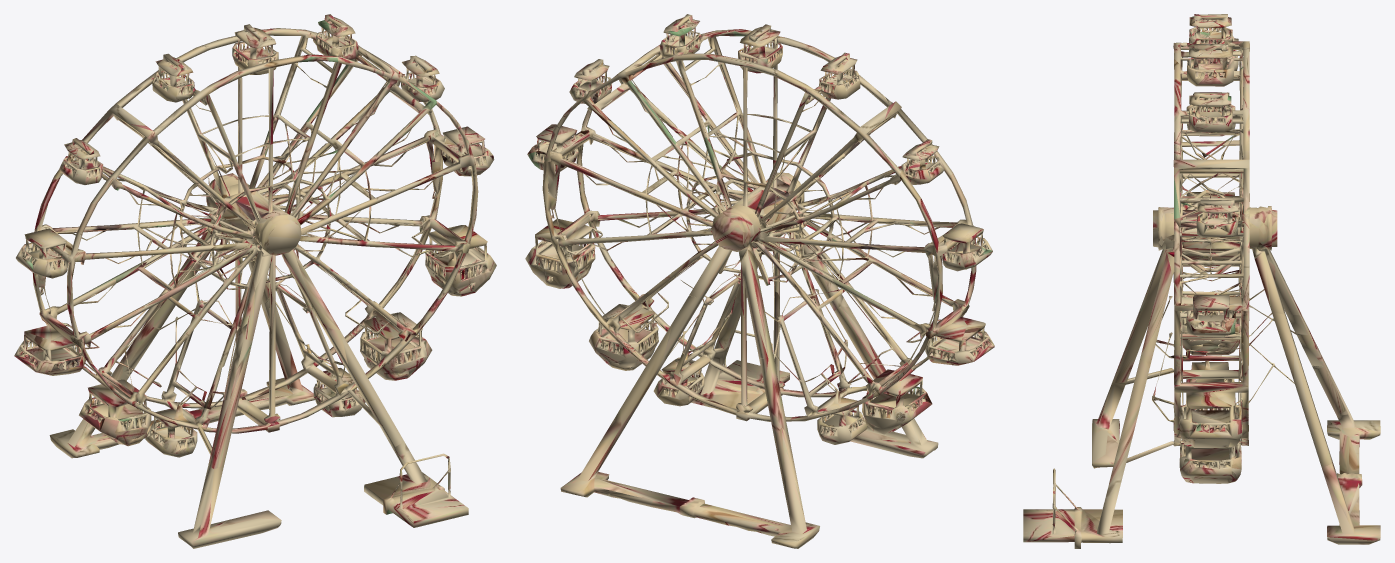
Rendered from ruedafortunaMar.fbx.
3 views of the same model, side by side, from view 1: azimuth 30°, elevation 25°; view 2: azimuth 150°, elevation 25°; view 3: azimuth 270°, elevation 25° (orthographic). The views are drawn at different scales.
Parts seen in each view (by area): view 1: Mesh_0.002, Mesh_0.001; view 2: Mesh_0.002, Mesh_0.001; view 3: Mesh_0.002, Mesh_0.001.
Boxes of the visible parts, left/top/right/bottom form: Mesh_0.002: left=14, top=14, right=496, bottom=457; Mesh_0.001: left=49, top=173, right=468, bottom=548; Mesh_0.002: left=525, top=14, right=994, bottom=444; Mesh_0.001: left=560, top=172, right=938, bottom=548; Mesh_0.002: left=1158, top=14, right=1272, bottom=483; Mesh_0.001: left=1023, top=206, right=1380, bottom=548.
Bounding box in the file's own units: 190 × 177 × 129.
